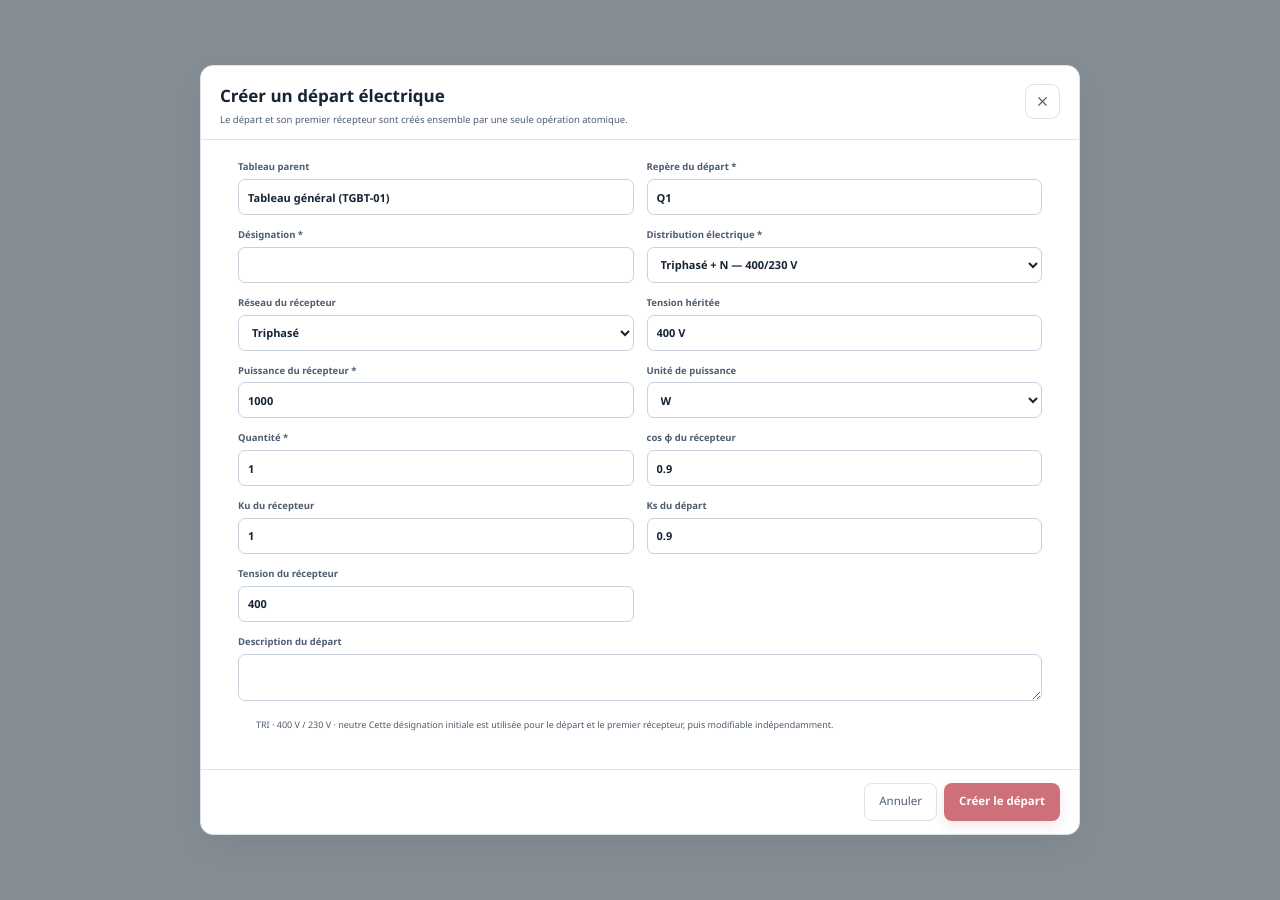
Test: FeederLoadDialog — suggestion de phase R5 › affiche l'indisponibilité et laisse la sélection manuelle
Select "Monophasé + N — 230 V" in the dropdown with test id "feeder-load-distribution" at (844,265), box [646,247,1042,283]
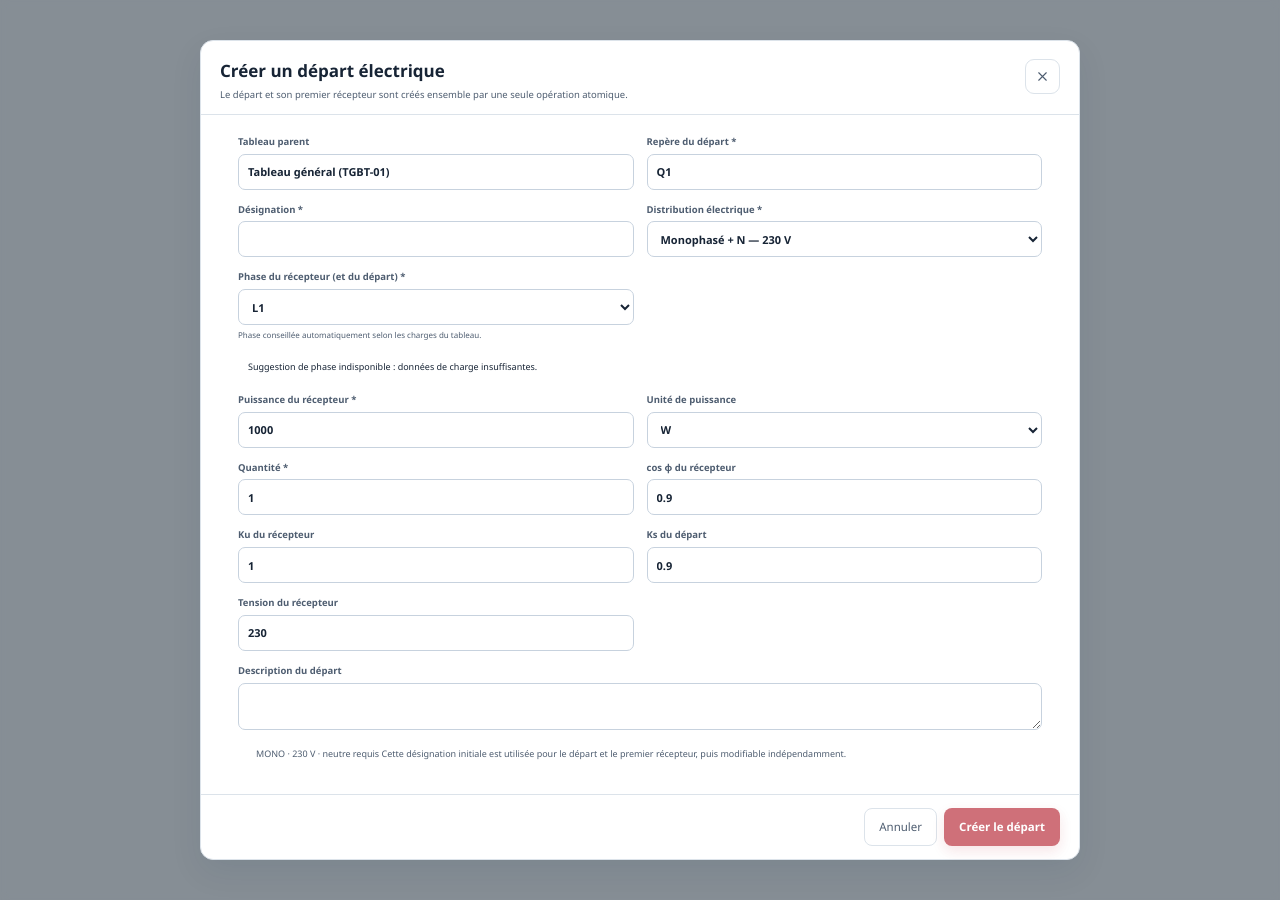
Now the text with test id "feeder-load-phase-suggestion" reads "Suggestion de phase indisponible : données de charge insuffisantes.", box [248,360,537,373]
Now the dropdown with test id "feeder-load-phase" shows "L1", box [238,289,634,325]
